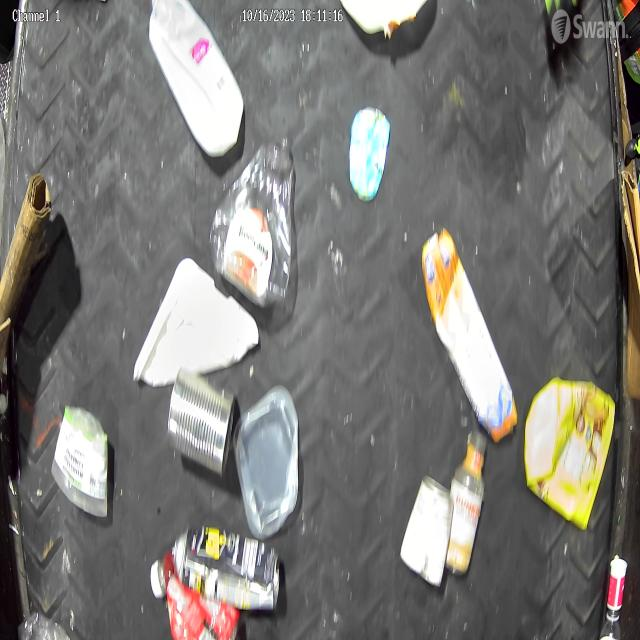can: (172, 529, 281, 613), (166, 367, 236, 478), (400, 476, 454, 586)
milk_jug: (148, 0, 245, 159)
non_white_jug: (421, 228, 518, 445)
plastic_bottle: (208, 134, 296, 310)
